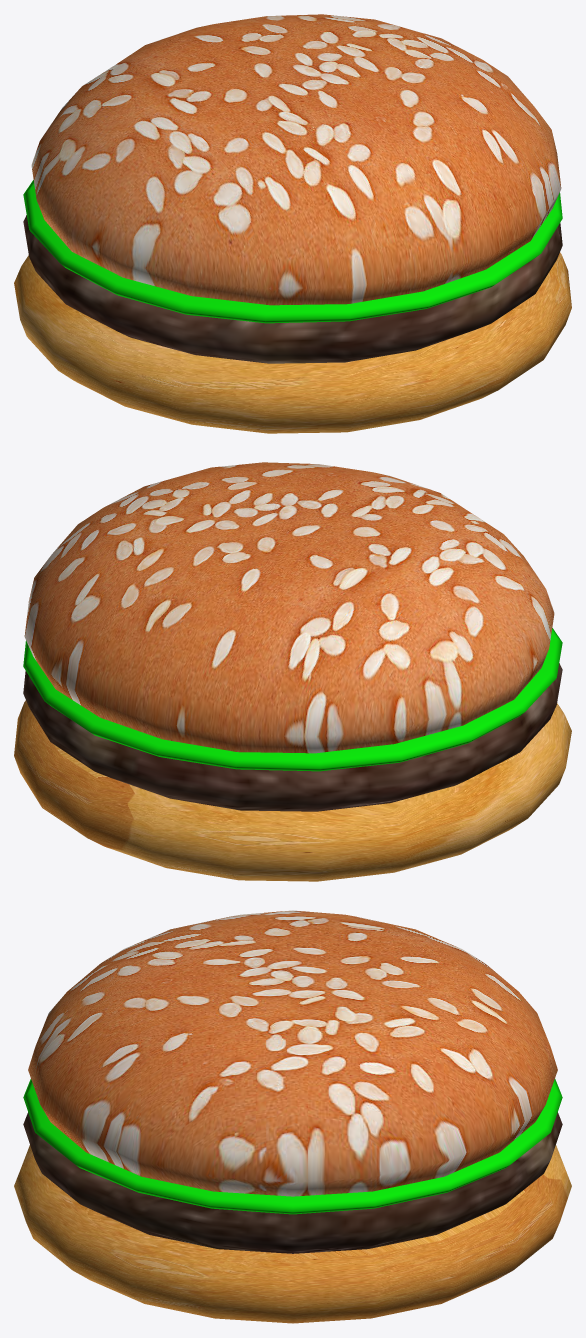
Rendered from Hamburger.fbx.
3 views of the same model, one above another, from view 1: azimuth 30°, elevation 25°; view 2: azimuth 150°, elevation 25°; view 3: azimuth 270°, elevation 25° (orthographic).
Visible parts, largest first — view 1: pCylinder4, pCylinder1, pCylinder2, pCylinder3; view 2: pCylinder4, pCylinder1, pCylinder2, pCylinder3; view 3: pCylinder4, pCylinder1, pCylinder2, pCylinder3.
Boxes of the visible parts, x1=… form: pCylinder4: x1=31, y1=14, x2=561, y2=305; pCylinder1: x1=14, y1=252, x2=571, y2=433; pCylinder2: x1=23, y1=215, x2=562, y2=363; pCylinder3: x1=23, y1=180, x2=562, y2=323; pCylinder4: x1=24, y1=462, x2=554, y2=753; pCylinder1: x1=14, y1=700, x2=571, y2=881; pCylinder2: x1=23, y1=663, x2=562, y2=811; pCylinder3: x1=23, y1=628, x2=562, y2=771; pCylinder4: x1=28, y1=910, x2=557, y2=1196; pCylinder1: x1=14, y1=1145, x2=571, y2=1323; pCylinder2: x1=23, y1=1112, x2=562, y2=1253; pCylinder3: x1=23, y1=1079, x2=562, y2=1214.
Size of the model in its own units: 7.32 by 3.93 by 7.31.
